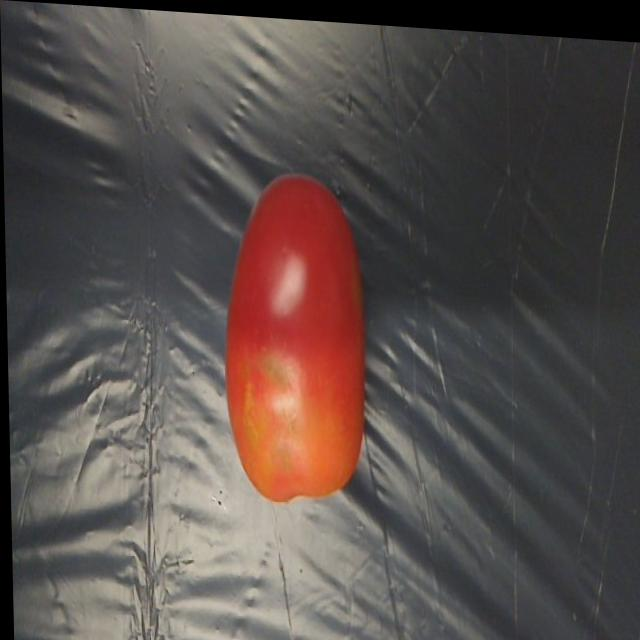sari: (212, 145, 379, 515)
